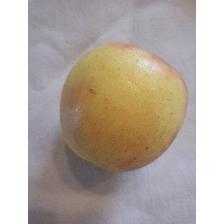Apfel: (58, 40, 190, 174)
